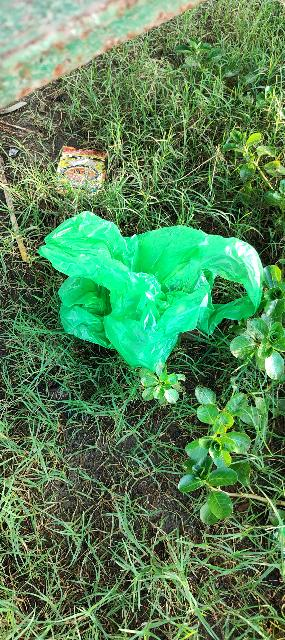polythene: (42, 199, 265, 372)
